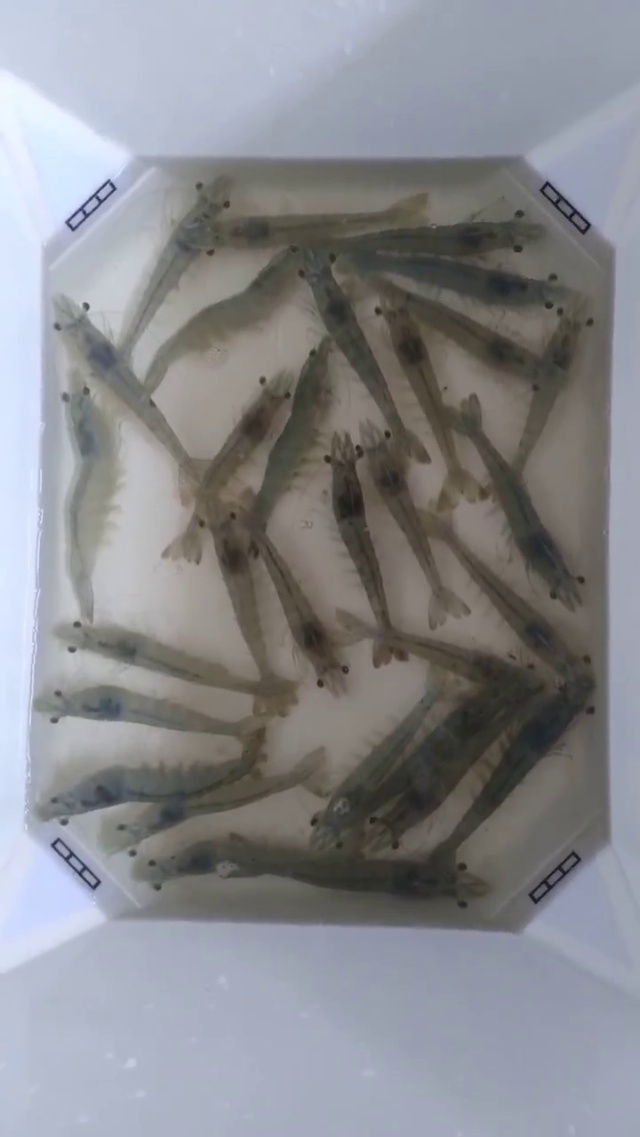shrimp: (544, 408, 639, 745), (566, 144, 639, 499), (165, 464, 268, 671), (477, 290, 588, 473), (0, 748, 99, 953), (138, 175, 268, 327), (42, 196, 139, 397), (41, 689, 148, 851), (584, 498, 639, 801), (13, 298, 105, 478), (64, 769, 175, 915), (459, 161, 562, 306), (86, 322, 189, 464), (3, 622, 84, 801), (336, 569, 468, 667), (300, 247, 386, 394), (205, 348, 296, 478), (230, 166, 330, 282), (301, 752, 383, 890), (349, 356, 429, 496), (277, 578, 369, 699), (61, 382, 122, 559), (420, 792, 497, 909), (406, 433, 482, 537), (322, 420, 374, 549)
